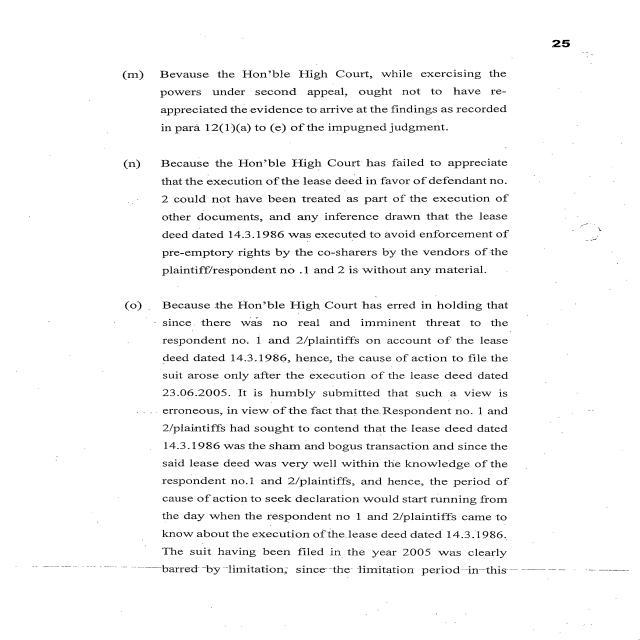page-number: (467, 0, 639, 50)
